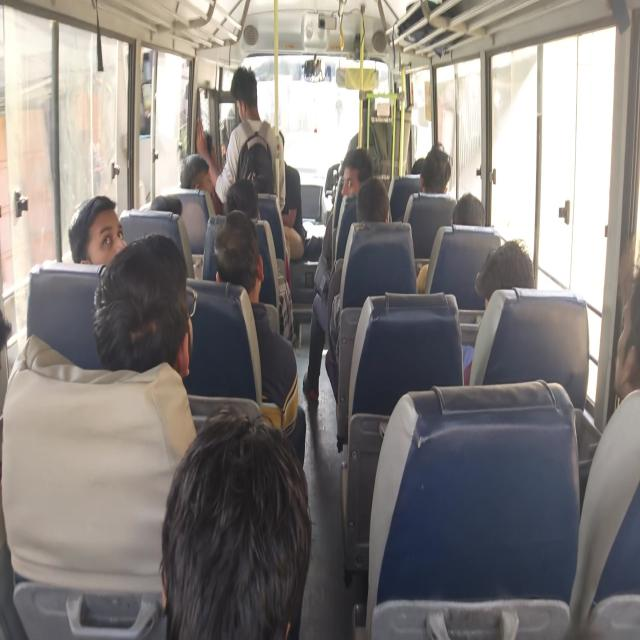person: (177, 445, 282, 640), (112, 250, 211, 385), (57, 179, 159, 238), (272, 140, 305, 247), (486, 232, 530, 295), (219, 208, 256, 282), (346, 155, 384, 203), (232, 72, 260, 137), (358, 189, 394, 234), (182, 154, 218, 198), (151, 190, 189, 228), (455, 182, 487, 226), (428, 144, 453, 198), (231, 180, 258, 214), (195, 131, 220, 167), (415, 150, 438, 184), (240, 172, 269, 192)
